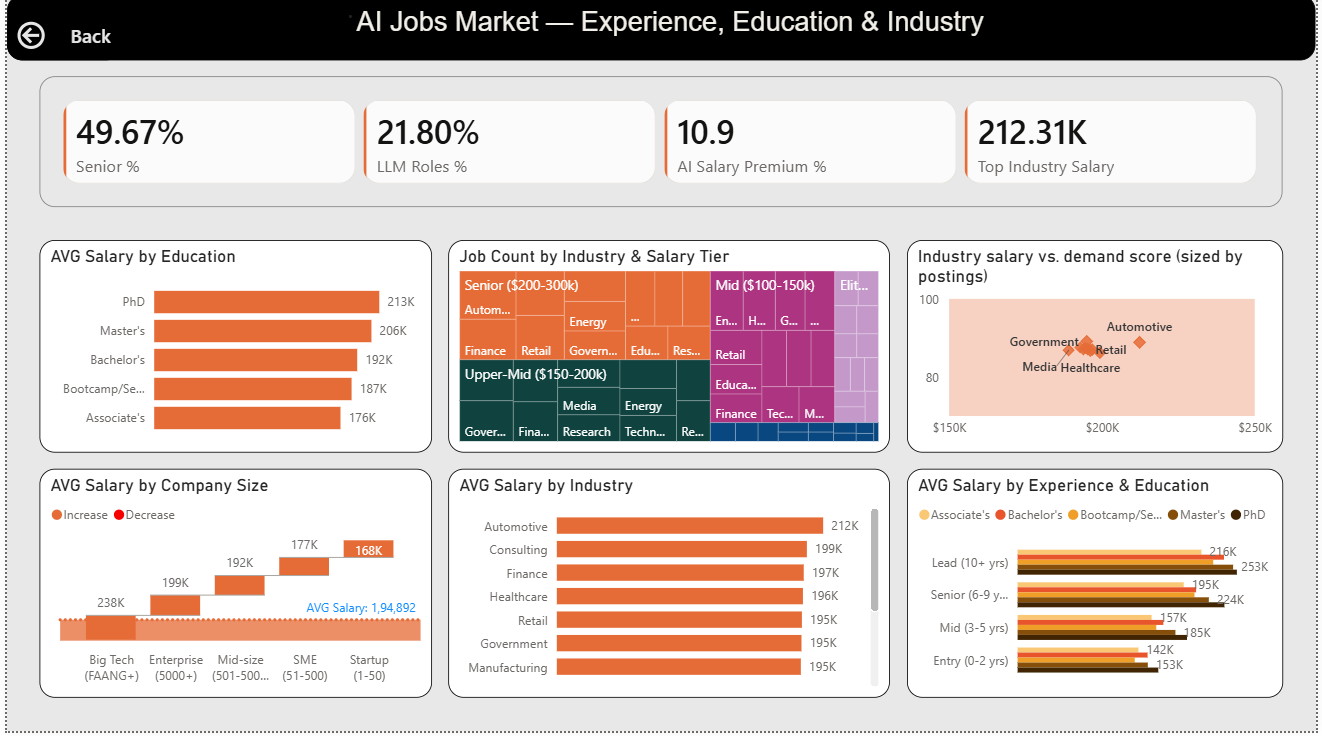

This screenshot's page, from the dashboard's own definition file:
{"tool":"powerbi","page":{"name":"Experience, Education & Industry","canvas":[1280,720],"ordinal":1},"visuals":[{"type":"cardVisual","fields":{"Data":["Measures Table.Senior Roles %","Measures Table.LLM Roles %","Measures Table.AI Salary Premium %","Measures Table.Top Industry Salary"]},"box":[32,80,1216,128],"z":0},{"type":"barChart","title":"AVG Salary by Education","fields":{"Category":["dw Dim_Education.education_required"],"Y":["Measures Table.AVG Salary"]},"box":[32,240,384,208],"z":1000},{"type":"barChart","title":"AVG Salary by Industry","fields":{"Y":["Measures Table.AVG Salary"],"Category":["dw Dim_Industry.industry"]},"box":[432,464,432,224],"z":2000},{"type":"waterfallChart","title":"AVG Salary by Company Size","fields":{"Category":["dw Dim_CompanySize.company_size"],"Y":["Measures Table.AVG Salary"]},"box":[32,464,384,224],"z":3000},{"type":"textbox","box":[0,0,1280,64],"z":4000},{"type":"actionButton","title":"Back","box":[0,16,112,48],"z":5000},{"type":"treemap","title":"Job Count by Industry & Salary Tier","fields":{"Values":["CountNonNull(dw Fact_JobPostings.job_id)"],"Group":["dw Dim_SalaryTier.salary_tier"],"Details":["dw Dim_Industry.industry"]},"box":[432,240,432,208],"z":6000},{"type":"scatterChart","title":"Industry salary vs. demand score (sized by postings)","fields":{"Y":["Measures Table.AVG Demand Score"],"Size":["Measures Table.Total Postings"],"Category":["dw Dim_Industry.industry"],"X":["Measures Table.AVG Annual Salary USD"]},"box":[880,240,368,208],"z":7000},{"type":"clusteredBarChart","title":"AVG Salary by Experience & Education","fields":{"Category":["dw Dim_Experience.experience_level"],"Y":["Measures Table.AVG Annual Salary USD"],"Series":["dw Dim_Education.education_required"]},"box":[880,464,368,224],"z":7001}]}

Visuals, with their boxes in screenshot pixels (x1, y1, x2, y2), scaled from the page's 1280x720 canvas onto the 1322x736 screenshot:
cardVisual - Measures Table.Senior Roles % x Measures Table.LLM Roles %: (left=33, top=82, right=1289, bottom=213)
"AVG Salary by Education" barChart: (left=33, top=245, right=430, bottom=458)
"AVG Salary by Industry" barChart: (left=446, top=474, right=892, bottom=703)
"AVG Salary by Company Size" waterfallChart: (left=33, top=474, right=430, bottom=703)
textbox: (left=0, top=0, right=1321, bottom=65)
"Back" actionButton: (left=0, top=16, right=116, bottom=65)
"Job Count by Industry & Salary Tier" treemap: (left=446, top=245, right=892, bottom=458)
"Industry salary vs. demand score (sized by postings)" scatterChart: (left=909, top=245, right=1289, bottom=458)
"AVG Salary by Experience & Education" clusteredBarChart: (left=909, top=474, right=1289, bottom=703)
